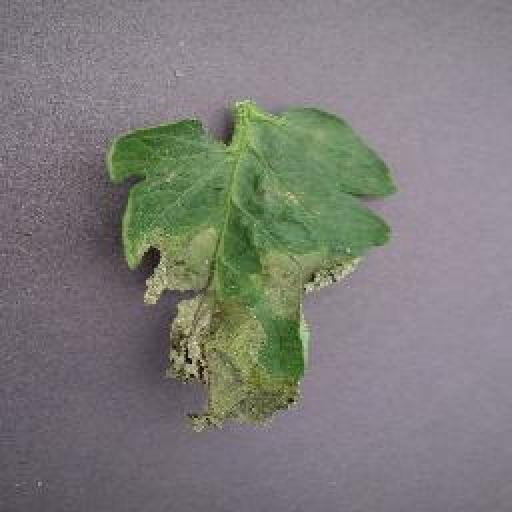disease_tomato: (101, 103, 395, 429)
